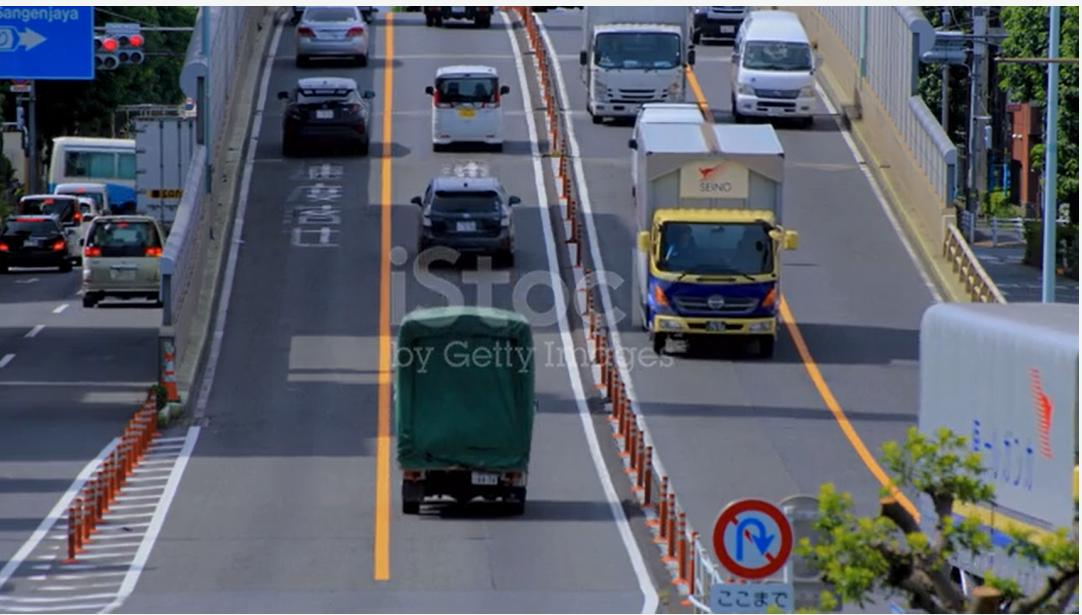car: (387, 163, 544, 294), (712, 9, 839, 137), (255, 59, 392, 163), (252, 0, 423, 73), (69, 199, 169, 322), (421, 37, 512, 171)
truck: (587, 109, 806, 374), (357, 288, 568, 555), (558, 0, 703, 145)
